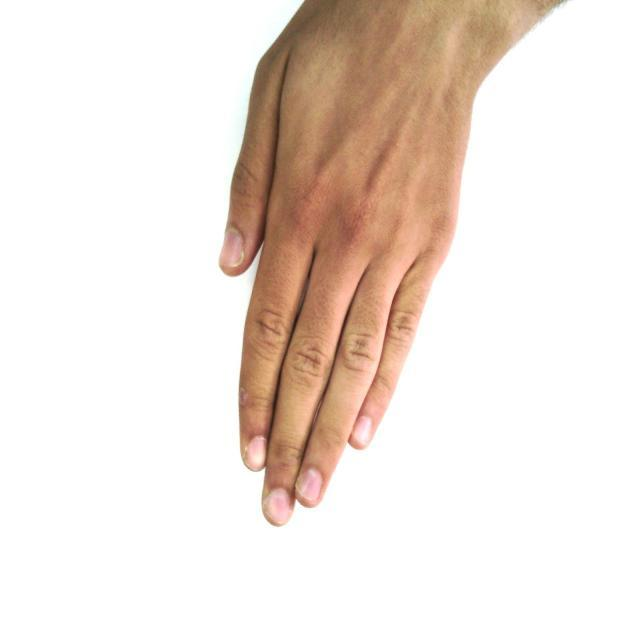Fingernail: (220, 227, 243, 266), (297, 469, 323, 501), (266, 490, 290, 524), (245, 435, 267, 470), (353, 416, 371, 443)
